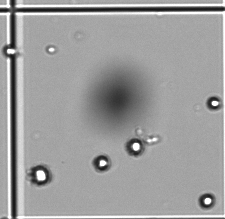Living Cell: (30, 165, 50, 186), (93, 153, 111, 171), (126, 138, 143, 156), (199, 193, 215, 208), (206, 95, 221, 110), (4, 44, 17, 56), (45, 45, 57, 54)
